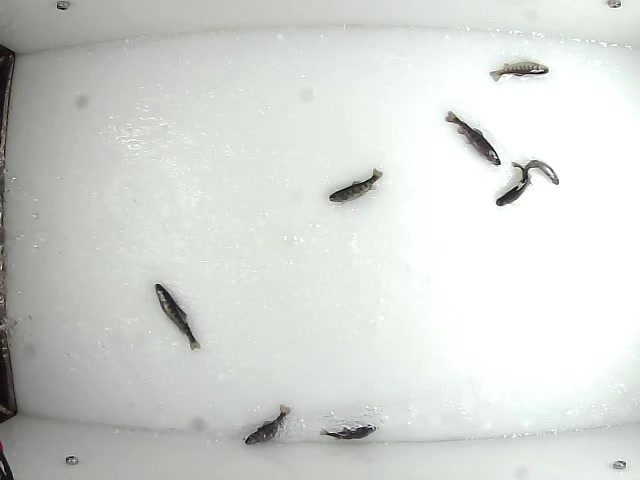fish: (153, 280, 203, 354), (444, 110, 504, 170), (242, 401, 292, 447), (325, 168, 385, 204), (496, 159, 530, 206), (488, 61, 551, 83), (318, 422, 378, 441), (523, 158, 561, 187)
